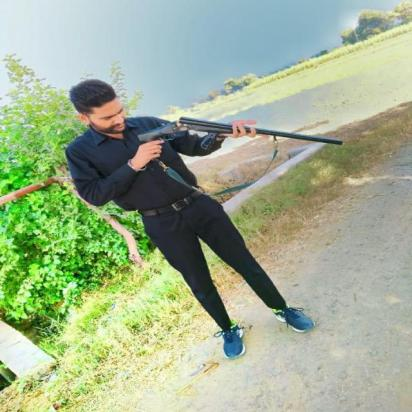Gun: (136, 115, 345, 162)
